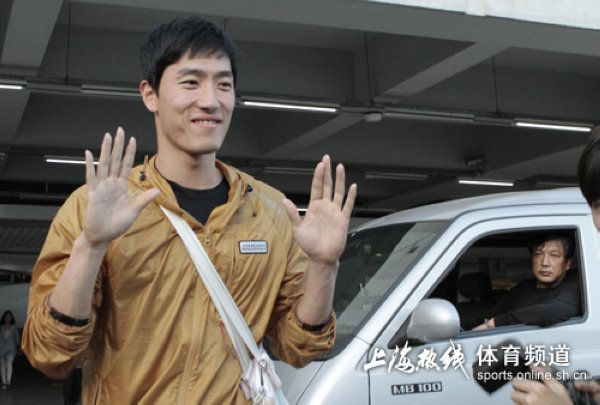handsup: (21, 15, 360, 400)
